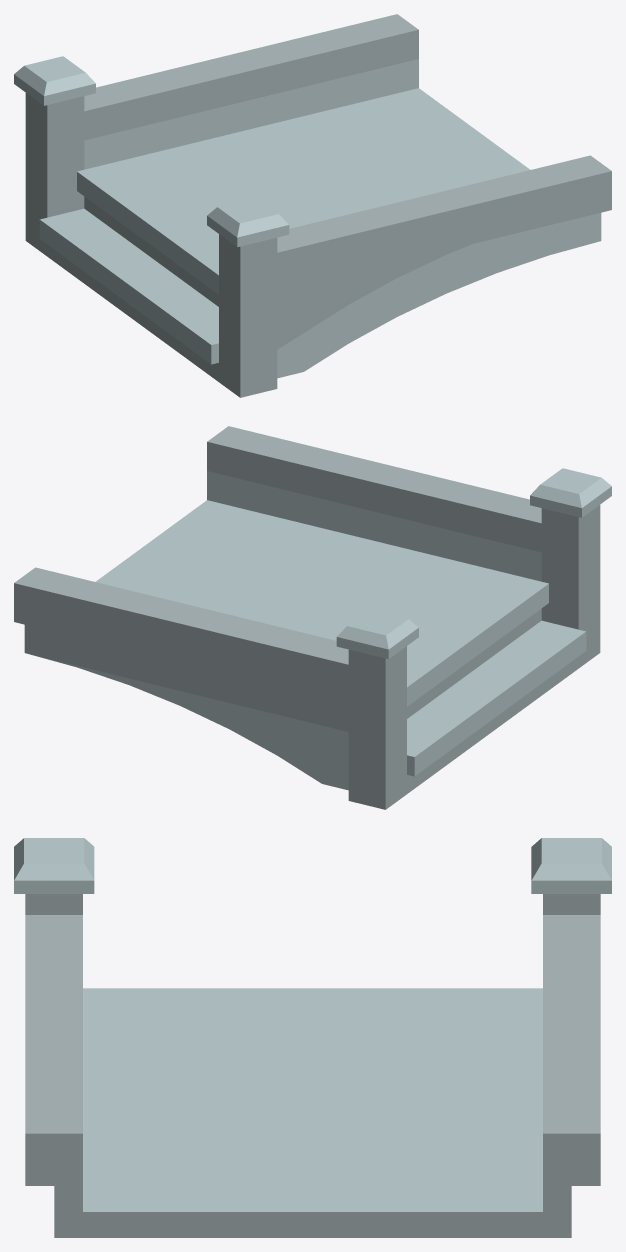
The model's file is bridge_side_stoneRound.glb.
3 views of the same model, one above another, from view 1: azimuth 30°, elevation 25°; view 2: azimuth 150°, elevation 25°; view 3: azimuth 270°, elevation 25° (orthographic). The views are drawn at different scales.
Visible parts, largest first — view 1: bridge_side_stoneRound; view 2: bridge_side_stoneRound; view 3: bridge_side_stoneRound.
Boxes of the visible parts, left/top/right/bottom form: bridge_side_stoneRound: left=14, top=14, right=611, bottom=397; bridge_side_stoneRound: left=14, top=426, right=611, bottom=809; bridge_side_stoneRound: left=14, top=838, right=611, bottom=1237.
Size of the model in its own units: 1.02 by 0.45 by 1.04.
